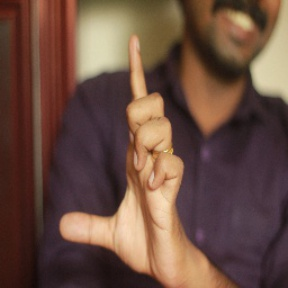L: (62, 33, 185, 264)
